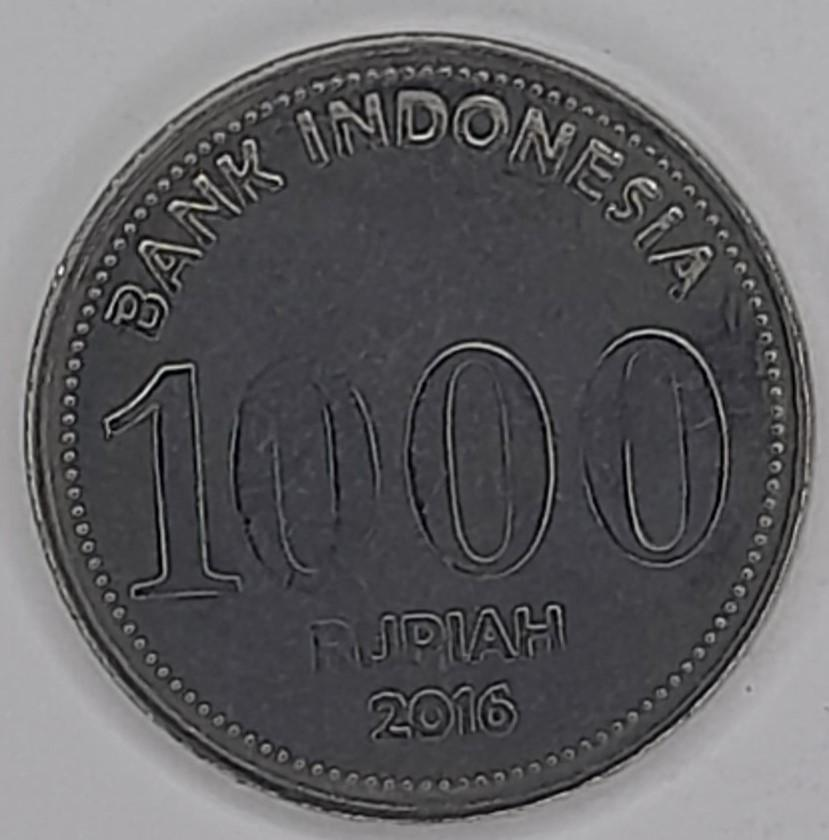coin_1000_e2016: (14, 17, 818, 840)
